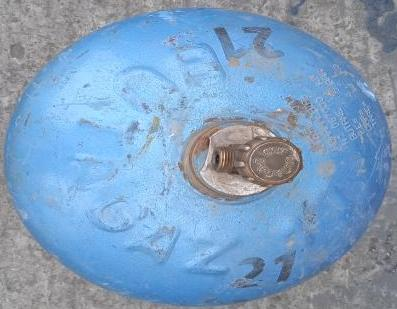cylinder: (1, 1, 397, 309)
